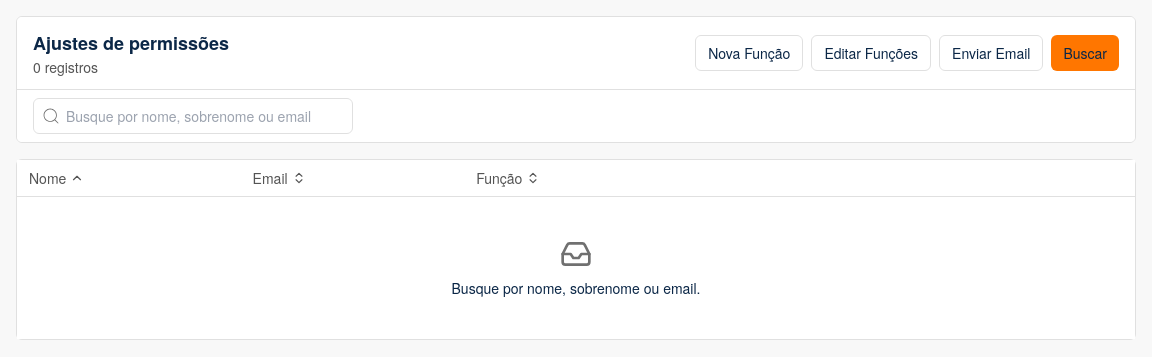
Scenario: DashRoles no DashListTemplate (usuários 03) › depois de uma busca sem resultado, diz que não achou
Step 1. Click the button "Buscar" → (1085, 53), box [1051,35,1119,71]
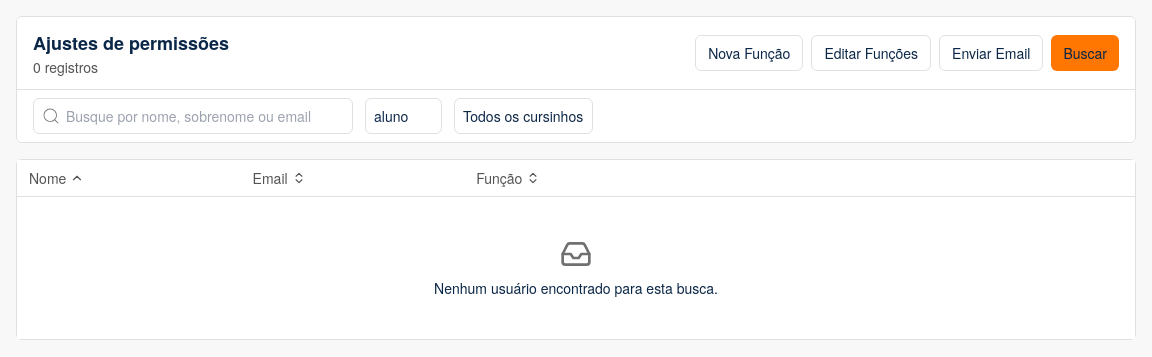
Check: the text "Nenhum usuário encontrado para esta busca." is shown, box [434,278,718,298]
